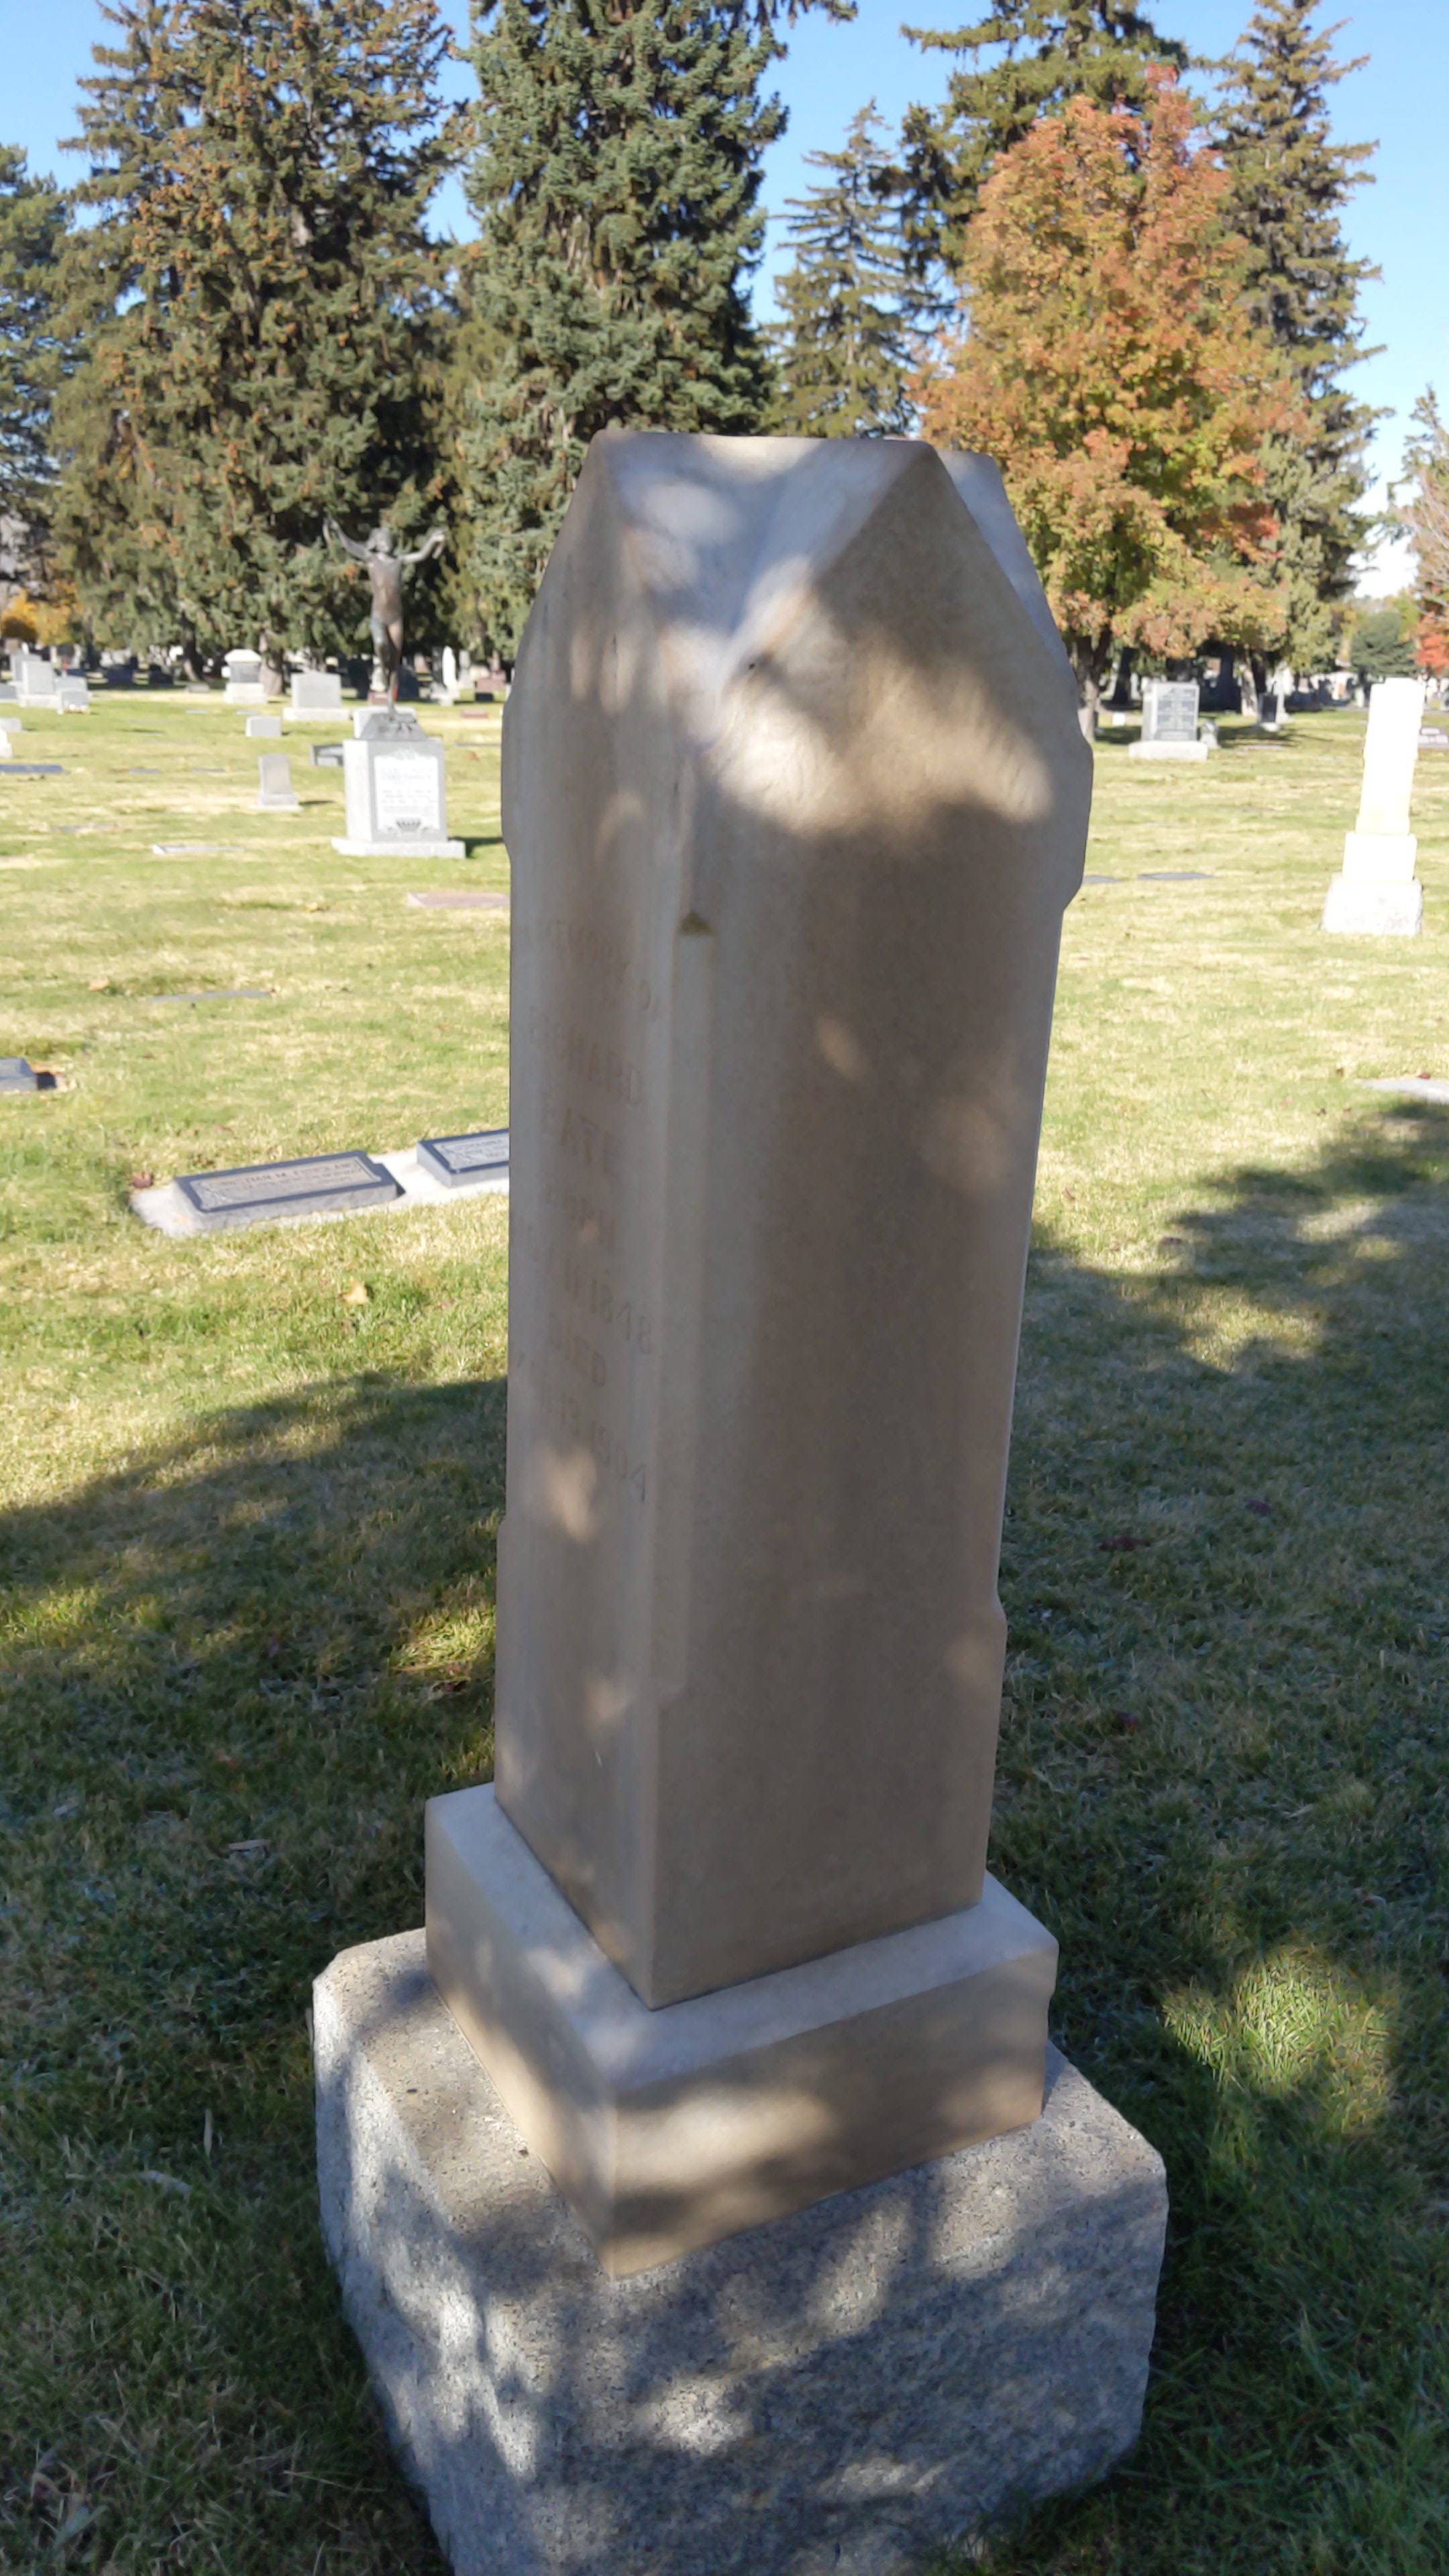obelisk: (428, 412, 1058, 2273)
